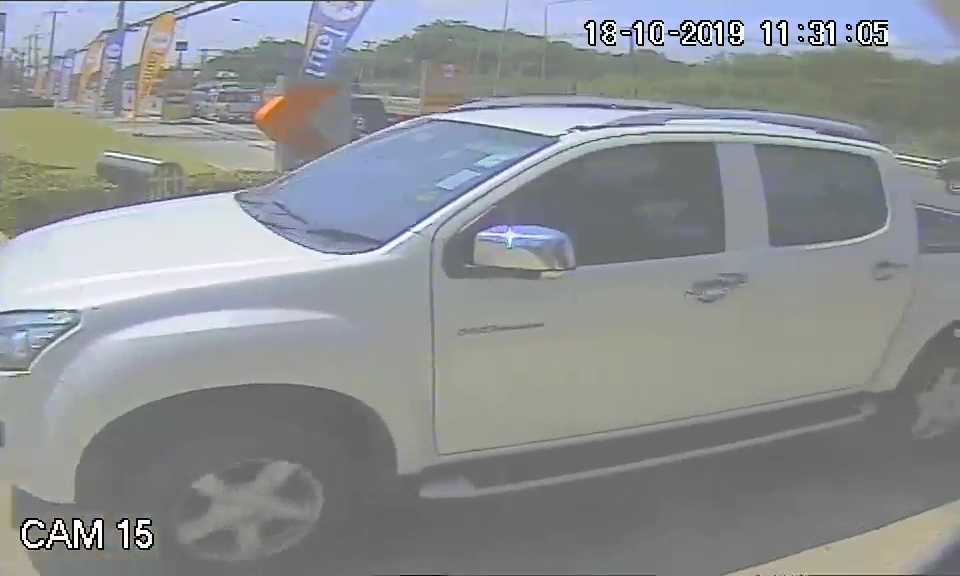pickup: (3, 98, 934, 511)
